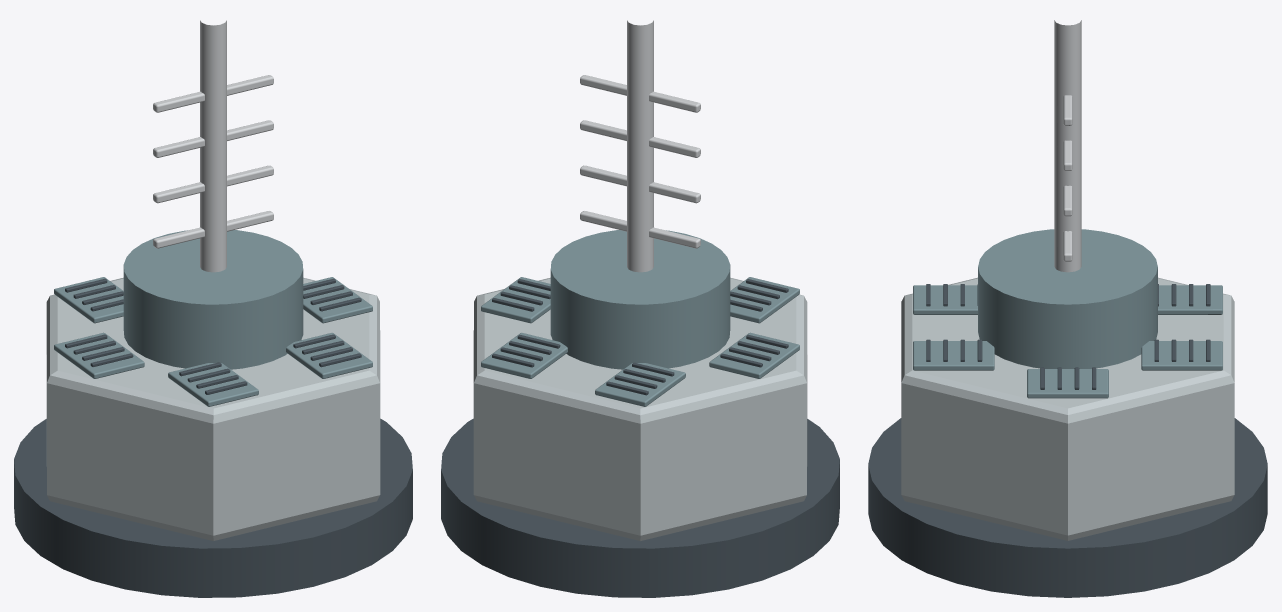
3 views of the same model, side by side, from view 1: azimuth 30°, elevation 25°; view 2: azimuth 150°, elevation 25°; view 3: azimuth 270°, elevation 25° (orthographic).
Parts seen in each view (by area): view 1: sensor-outpost; view 2: sensor-outpost; view 3: sensor-outpost.
Boxes of the visible parts, x1,y1,x2,y2 form: sensor-outpost: (14, 20, 412, 597); sensor-outpost: (441, 20, 839, 597); sensor-outpost: (868, 20, 1267, 597).
Bounding box in the file's own units: 4.4 × 6 × 4.4.
